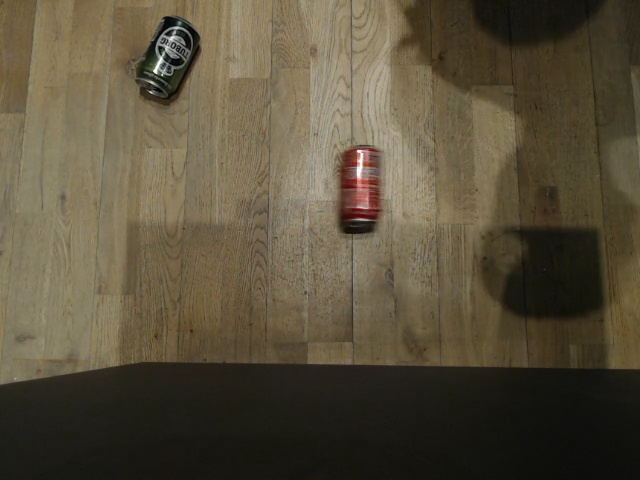beer: (134, 15, 203, 102)
cola: (335, 143, 386, 228)
